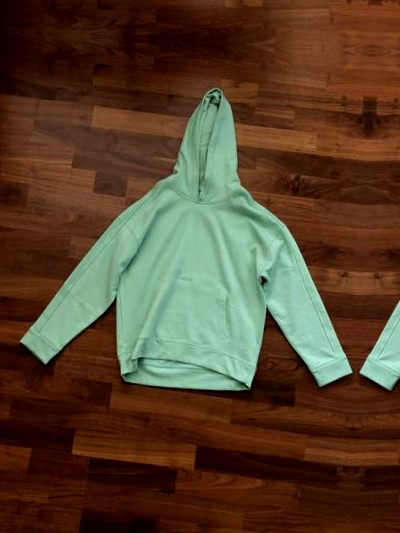Hoodie: (13, 78, 360, 405), (365, 96, 400, 423), (34, 0, 381, 5), (386, 0, 400, 23)
